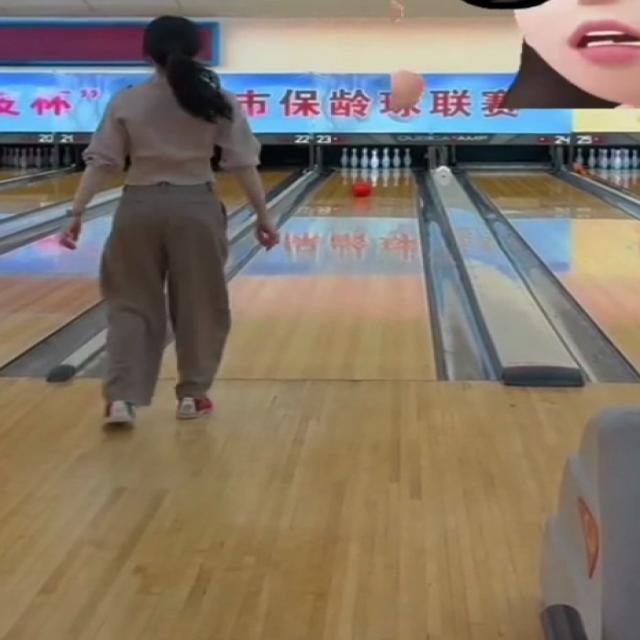alley: (222, 170, 434, 378)
balls: (353, 180, 371, 197)
bottle: (341, 148, 411, 169)
